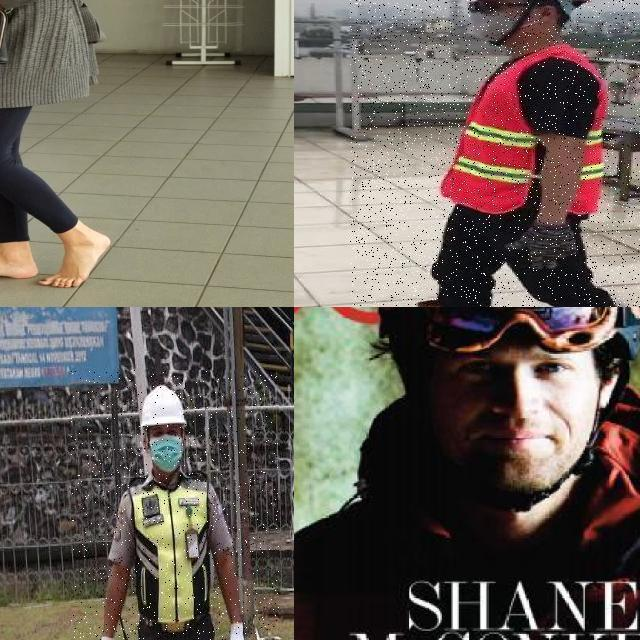Barefoots: (38, 232, 111, 288), (0, 257, 38, 286)
face_nomask: (439, 345, 583, 467)
glasses: (412, 307, 625, 348)
head_helmet: (141, 378, 196, 434)
person: (350, 0, 640, 307), (71, 370, 279, 640)
vest: (442, 47, 606, 217), (132, 471, 222, 628)
